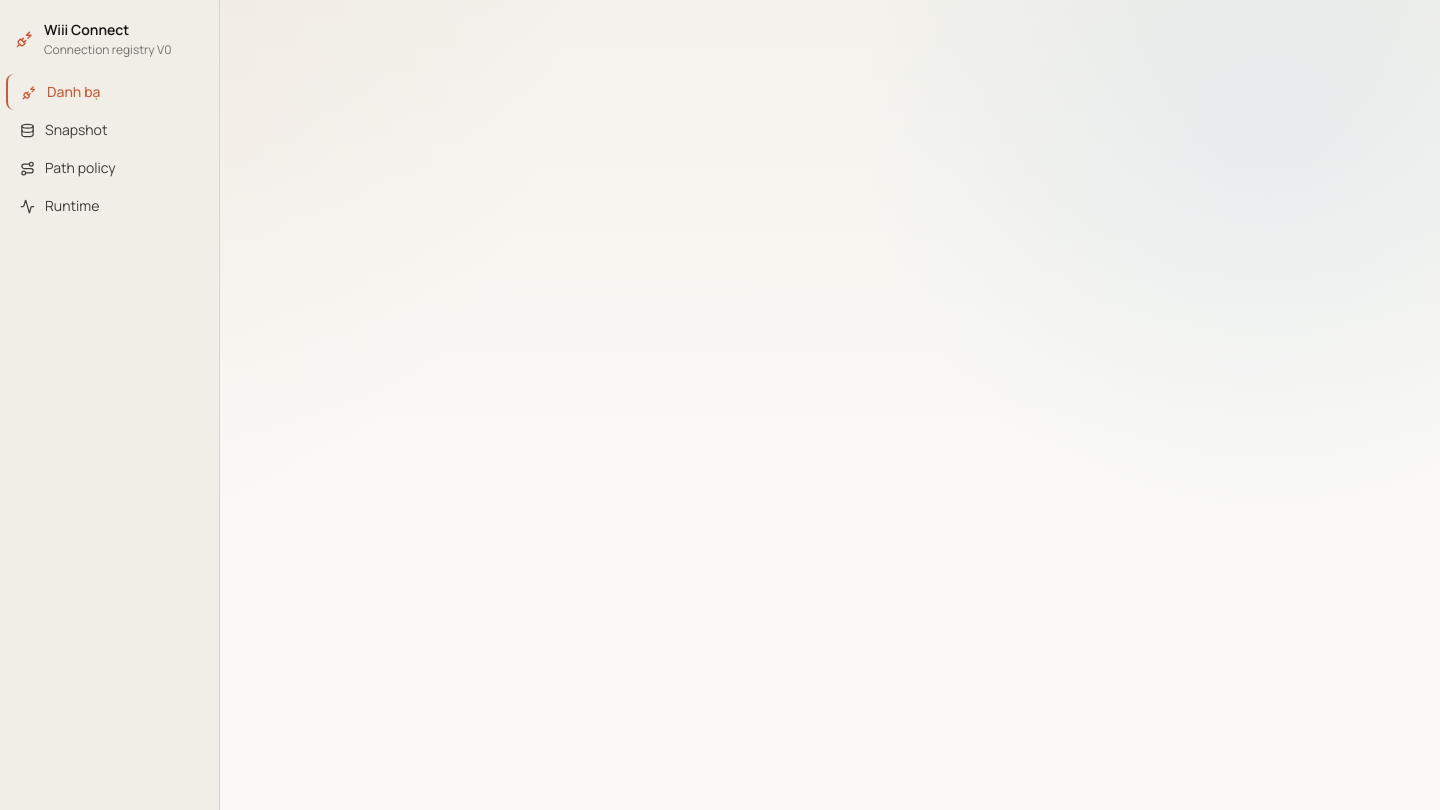
Scenario: WiiiConnectPage › shows sanitized runtime_flow_trace for the latest chat turn
Click the button "Runtime" at (110, 206), box [8,188,211,224]
(page scrolled)
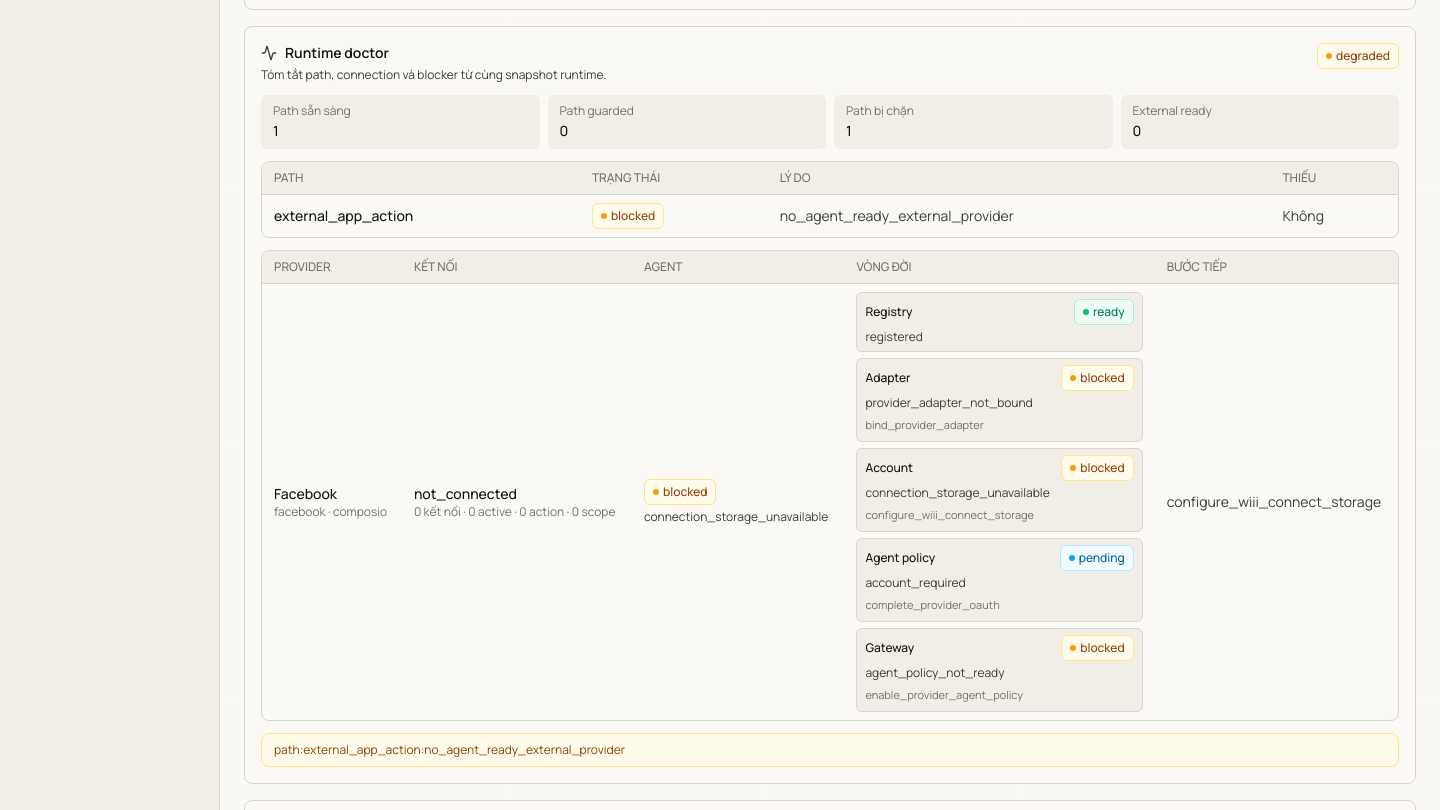
Expected: the element with test id "wiii-connect-doctor-panel" shows "Runtime doctor", [285,43,389,62]
Expected: the element with test id "wiii-connect-doctor-panel" shows "no_agent_ready_external_provider", [780,206,1014,225]
Expected: the element with test id "wiii-connect-doctor-panel" shows "Facebook", [274,484,337,503]
